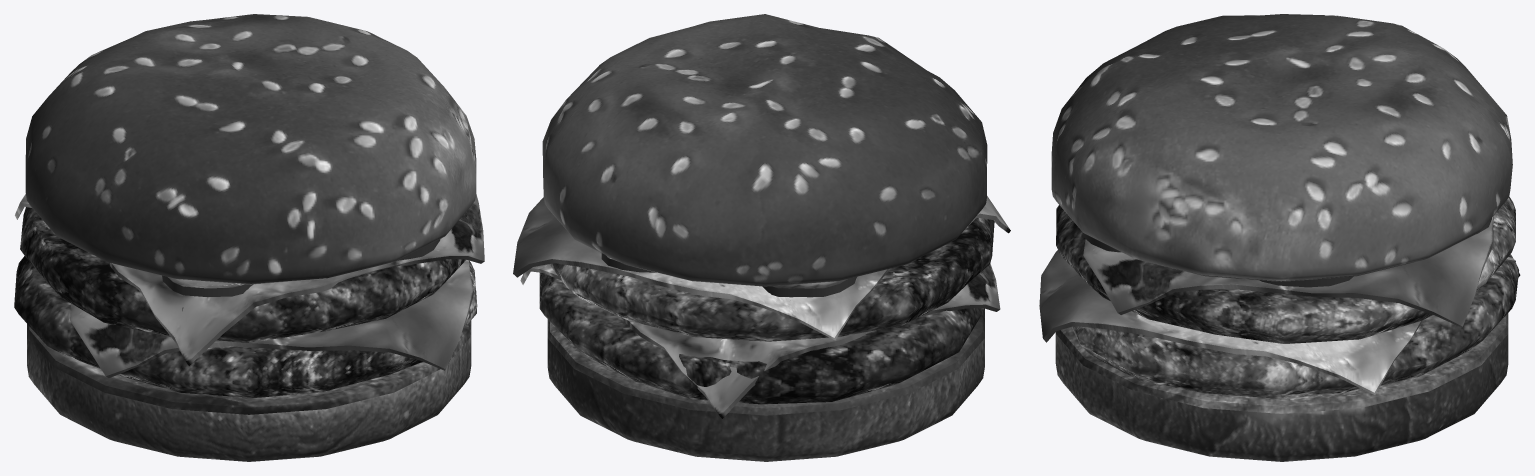
File: cheeseburger.fbx
3 views of the same model, side by side, from view 1: azimuth 30°, elevation 25°; view 2: azimuth 150°, elevation 25°; view 3: azimuth 270°, elevation 25° (orthographic). The views are drawn at different scales.
Visible parts, largest first — view 1: cheeseburger; view 2: cheeseburger; view 3: cheeseburger.
Boxes of the visible parts, bbox=[...] form: cheeseburger: bbox=[14, 14, 484, 461]; cheeseburger: bbox=[513, 14, 1010, 461]; cheeseburger: bbox=[1039, 14, 1520, 461].
Bounding box in the file's own units: 20.59 × 14.81 × 20.63.
